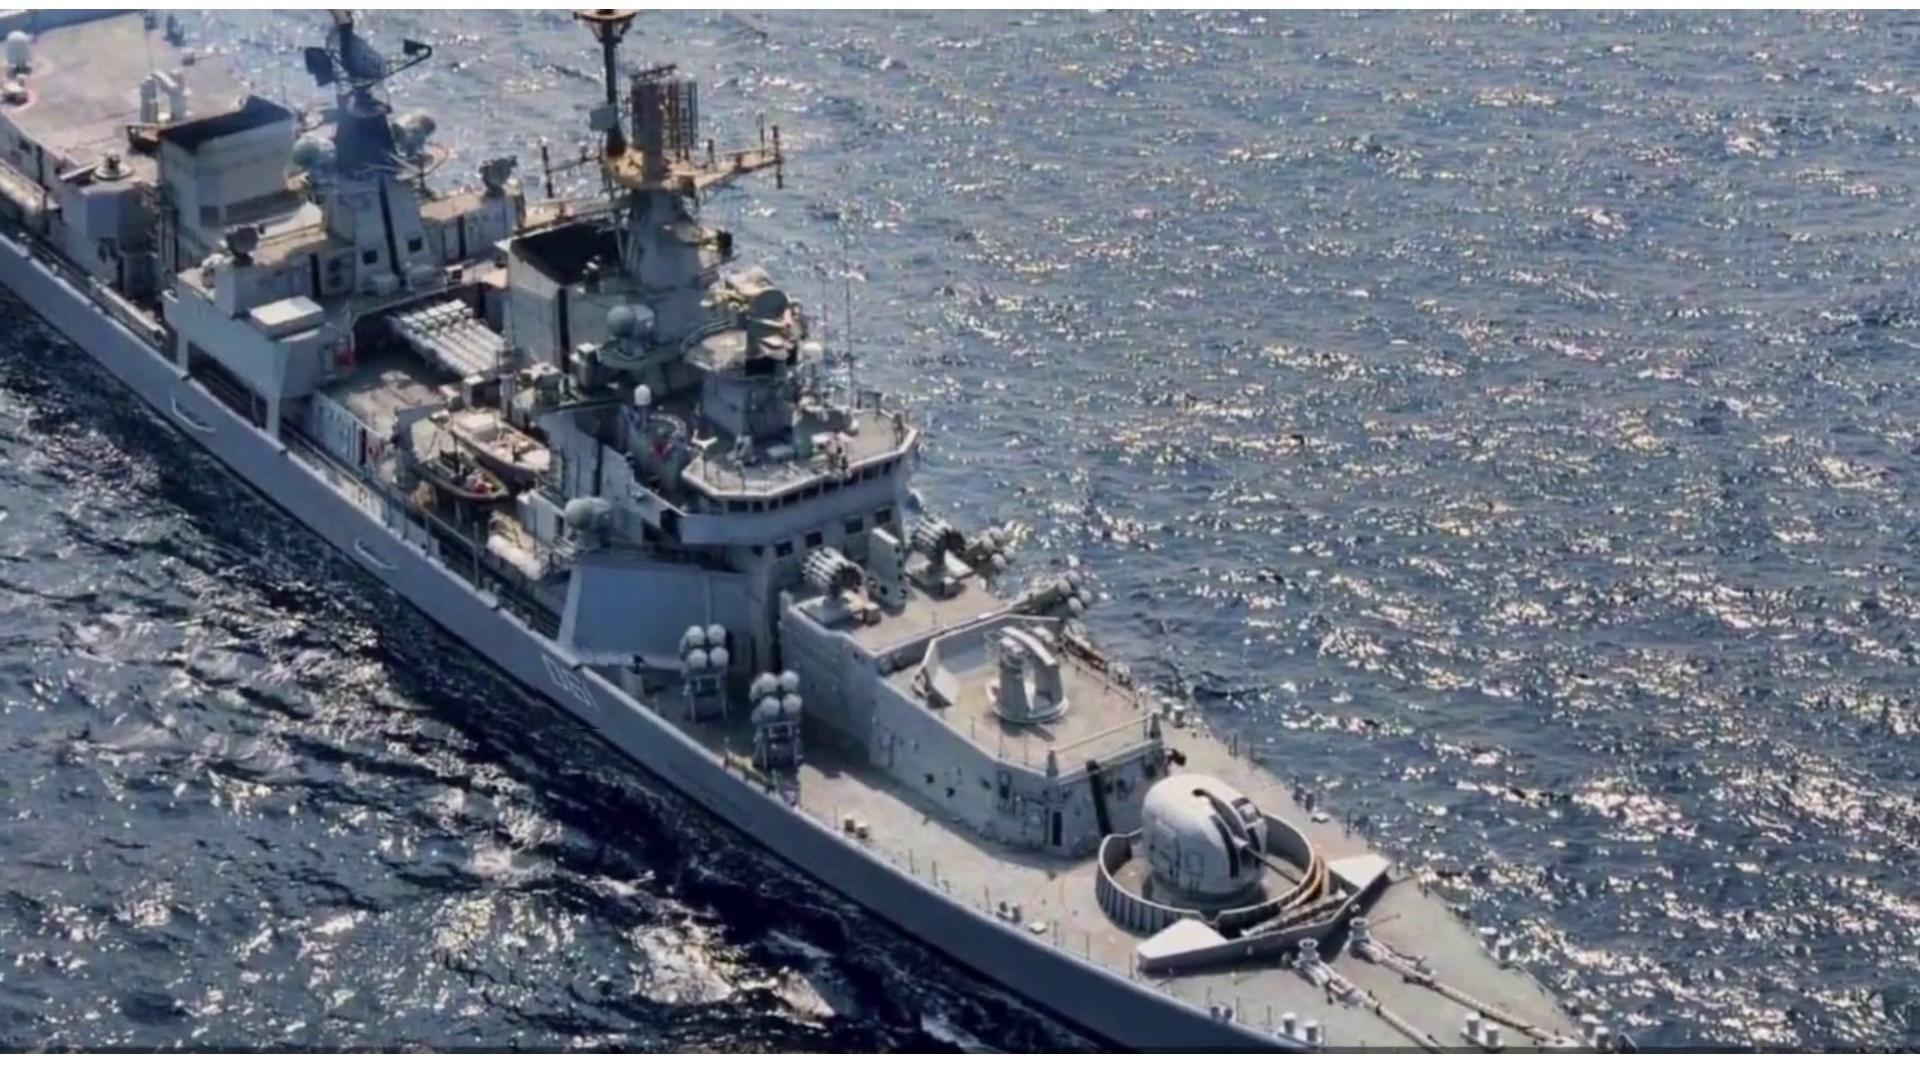OCR: (530, 647, 608, 729)
